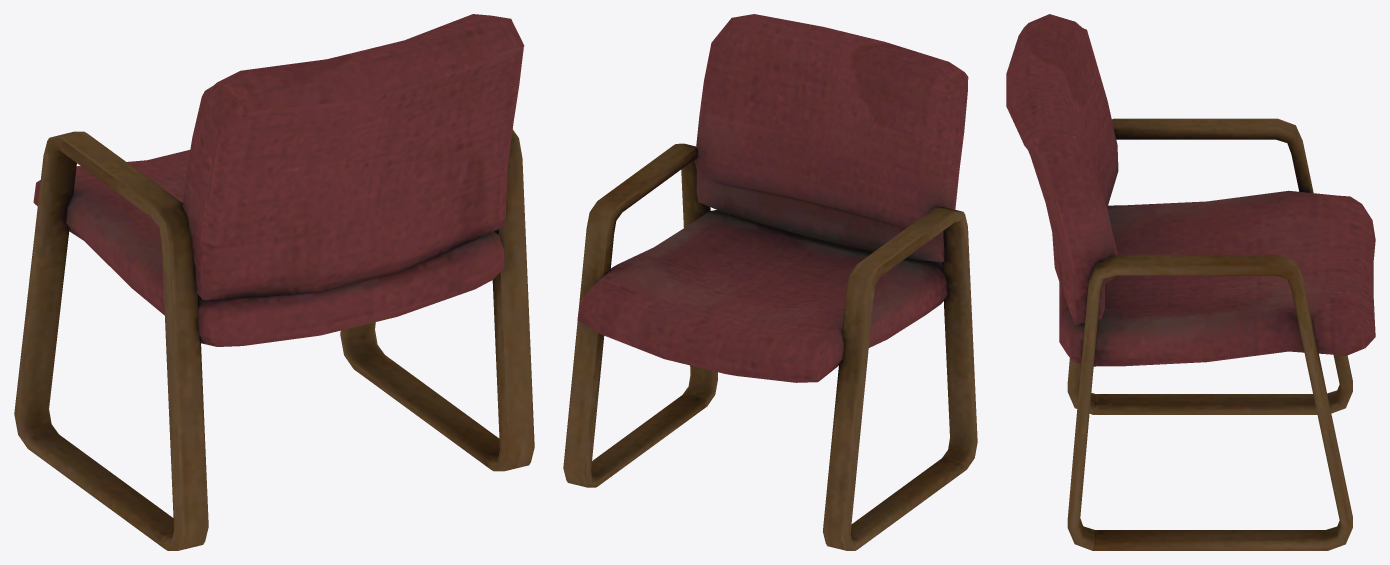
The model's file is chairlobby01.glb.
3 renders of one model, left to right at view 1: azimuth 30°, elevation 25°; view 2: azimuth 150°, elevation 25°; view 3: azimuth 270°, elevation 25°, orthographic. The views are drawn at different scales.
Parts seen in each view (by area): view 1: chairlobby01; view 2: chairlobby01; view 3: chairlobby01.
Part boxes in pixels (x1,y1,x2,y2): chairlobby01: [14, 14, 534, 550]; chairlobby01: [563, 14, 977, 550]; chairlobby01: [1006, 14, 1375, 550].
Bounding box in the file's own units: 0.663 × 0.8566 × 0.6951.
1 material, 1 textured.
